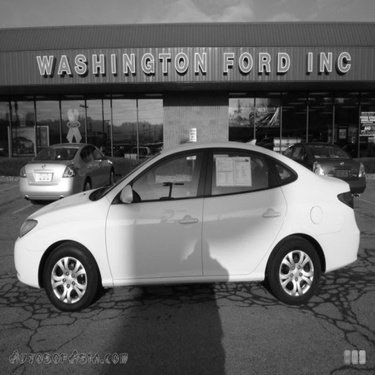car: (4, 116, 368, 323), (13, 124, 117, 208), (259, 131, 368, 198), (111, 150, 158, 169), (1, 140, 39, 159)
